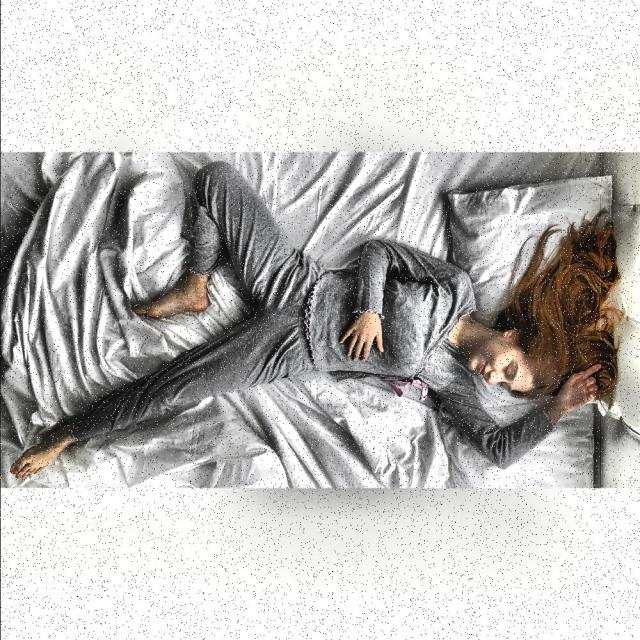Supine: (11, 161, 619, 479)
